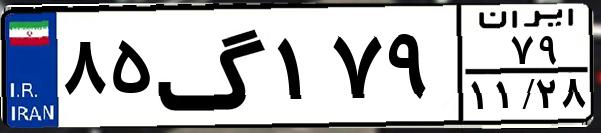1: (270, 28, 330, 110), (470, 70, 495, 125), (495, 70, 520, 125)
2: (535, 70, 560, 125)
5: (110, 28, 156, 98)
7: (330, 28, 385, 110), (508, 27, 537, 80)
8: (57, 26, 110, 100), (560, 70, 590, 125)
9: (385, 28, 445, 110), (537, 27, 568, 80)
گ: (156, 12, 270, 120)
